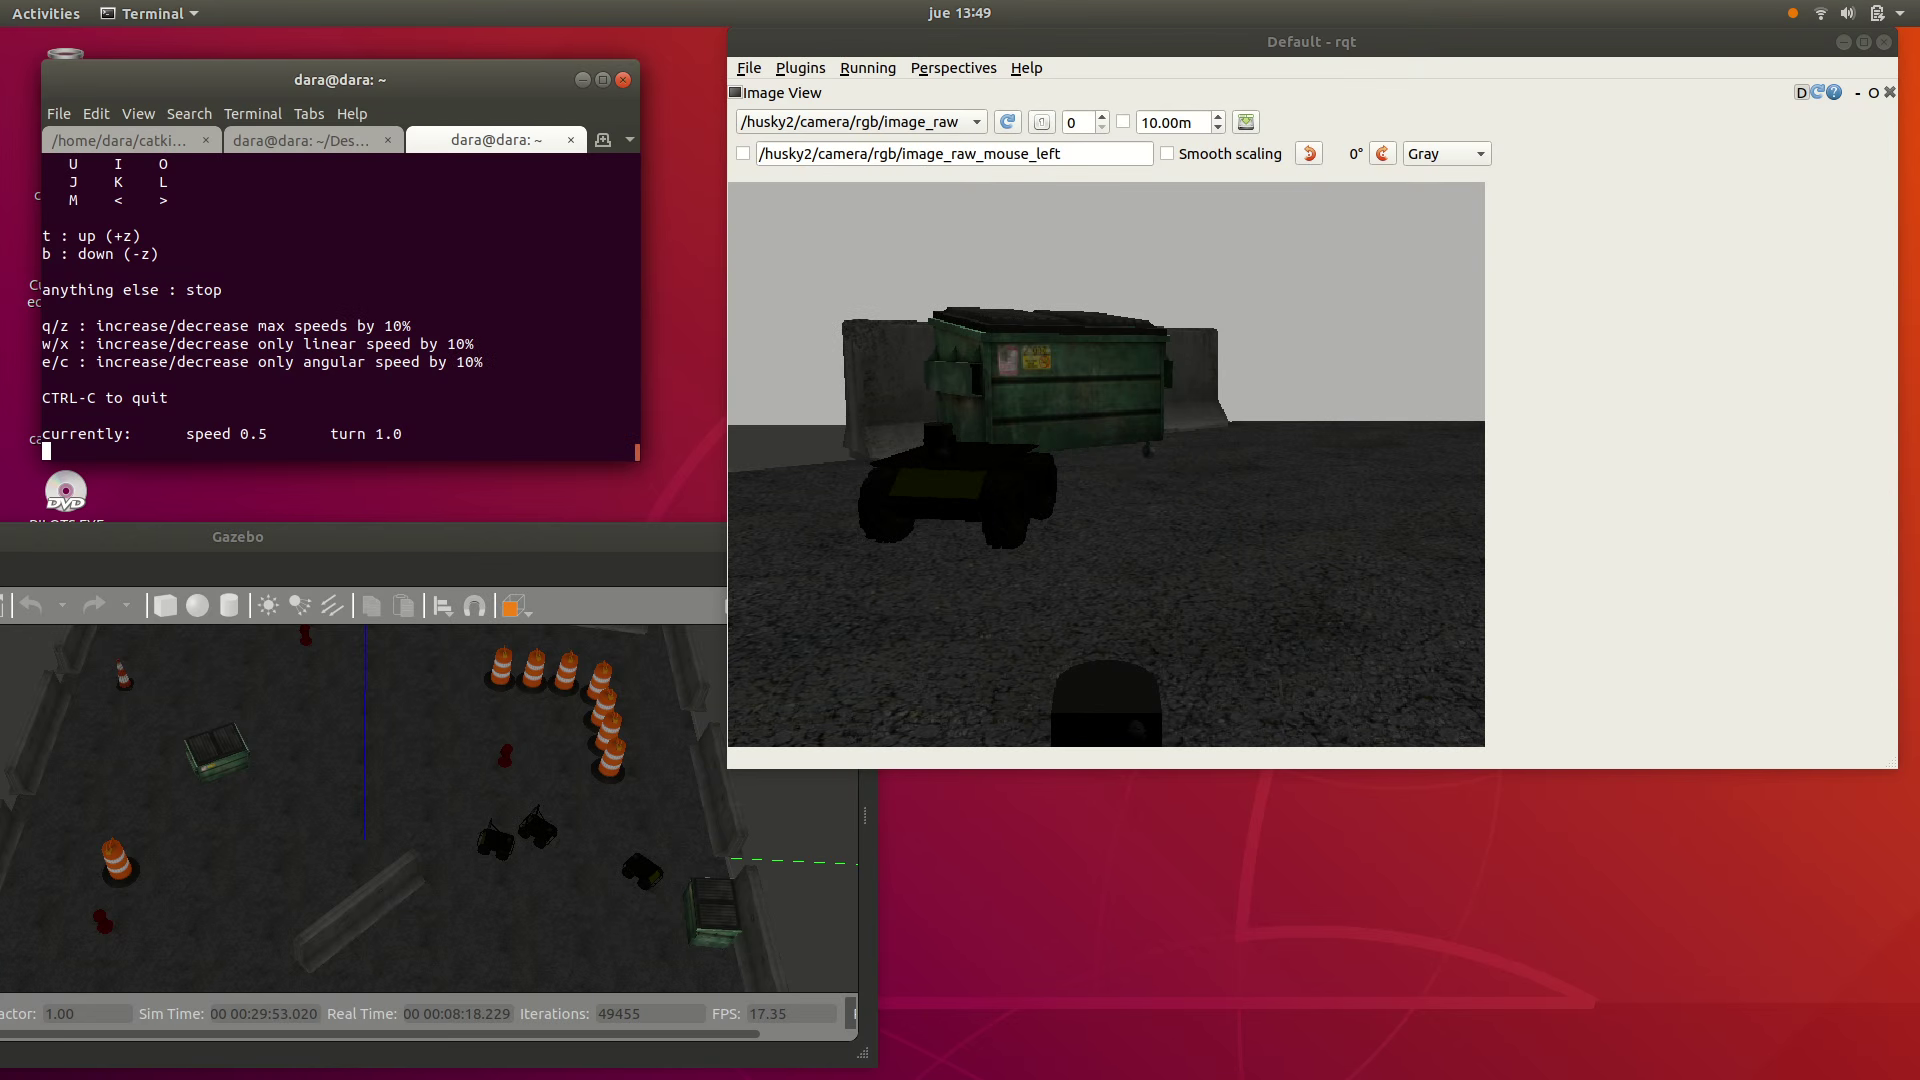husky: (857, 443, 1057, 550), (622, 853, 664, 891), (517, 814, 557, 849), (476, 829, 515, 860)
